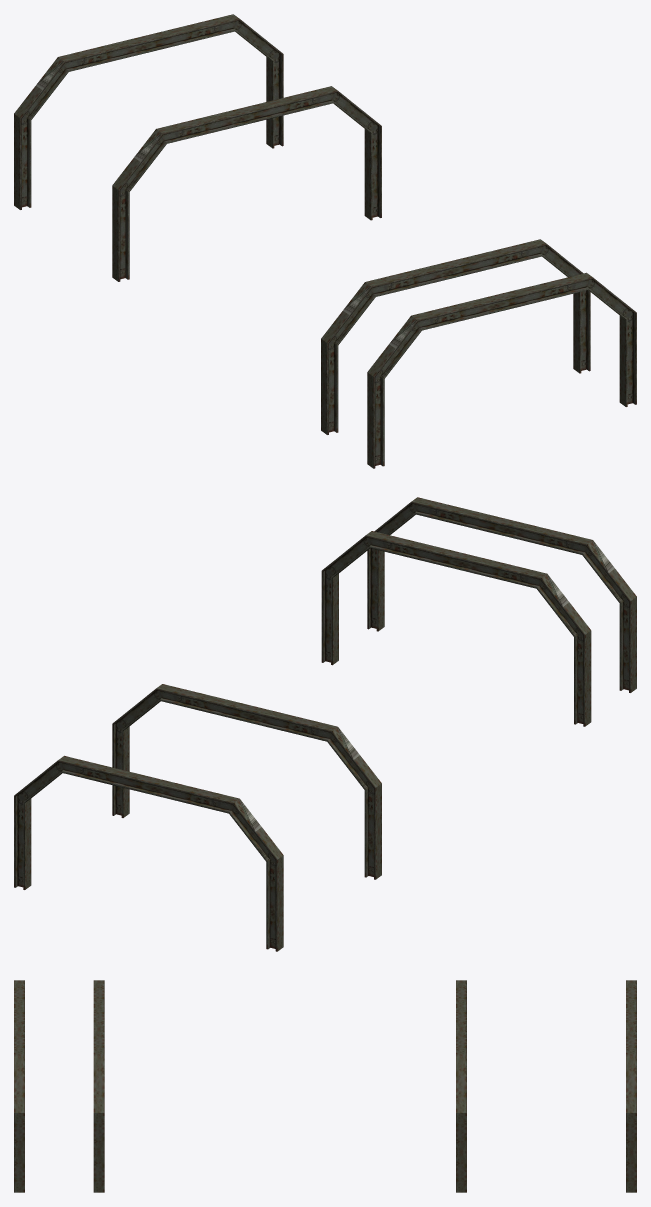
The model's file is arches_u.glb.
The picture shows the model from 3 angles, top to bottom: view 1: azimuth 30°, elevation 25°; view 2: azimuth 150°, elevation 25°; view 3: azimuth 270°, elevation 25°; orthographic projection. The views are drawn at different scales.
Visible parts, largest first — view 1: 0_arches_U; view 2: 0_arches_U; view 3: 0_arches_U.
Part boxes in pixels (x1=…): 0_arches_U: x1=14, y1=14, x2=636, y2=468; 0_arches_U: x1=14, y1=497, x2=636, y2=951; 0_arches_U: x1=14, y1=980, x2=636, y2=1192.
Bounding box in the file's own units: 9.76 × 4.88 × 23.06.
Materials: 1 (1 with a texture image).
